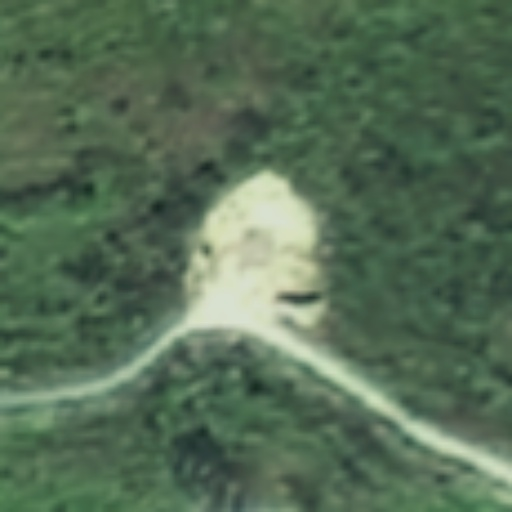landslide: (191, 171, 330, 327)
